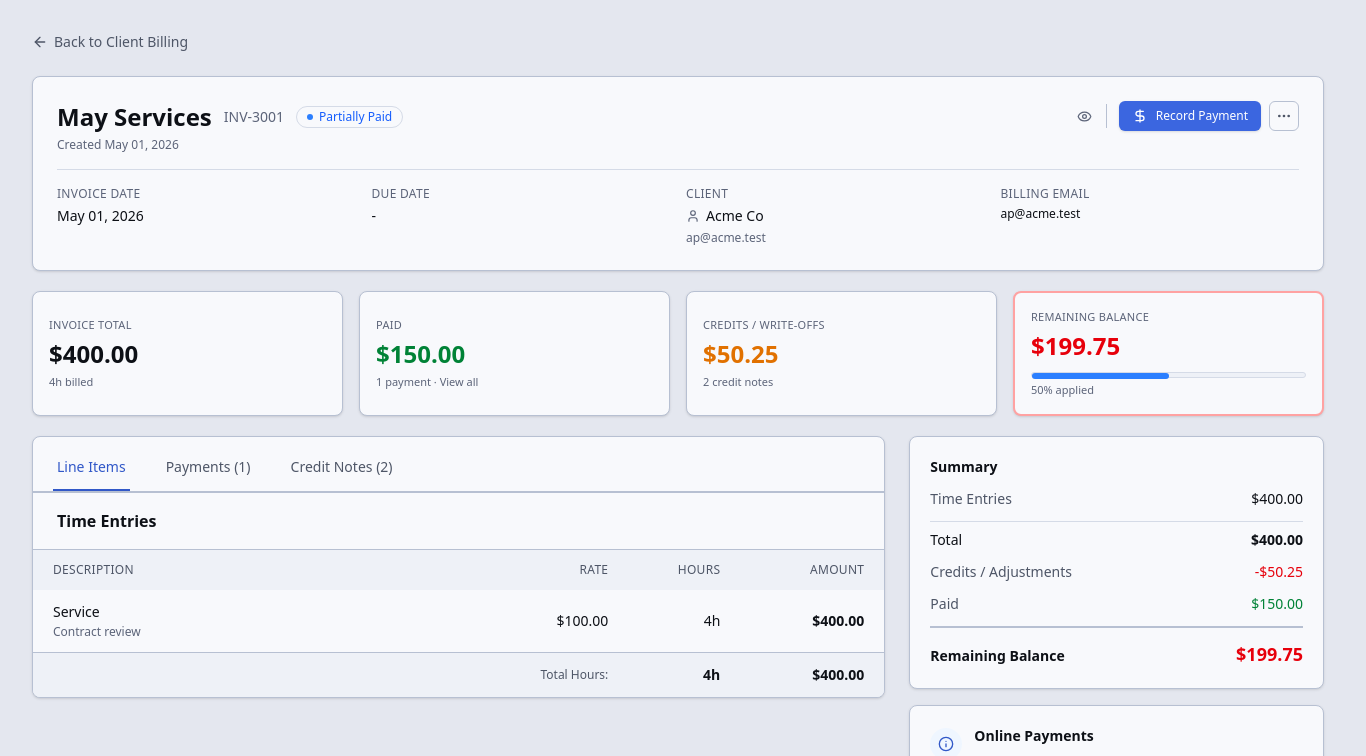
Test: credit notes already on the invoice › offers no removal to someone who cannot manage invoices
Click the button "Credit Notes (2)" at (342, 468), box [287, 445, 397, 491]
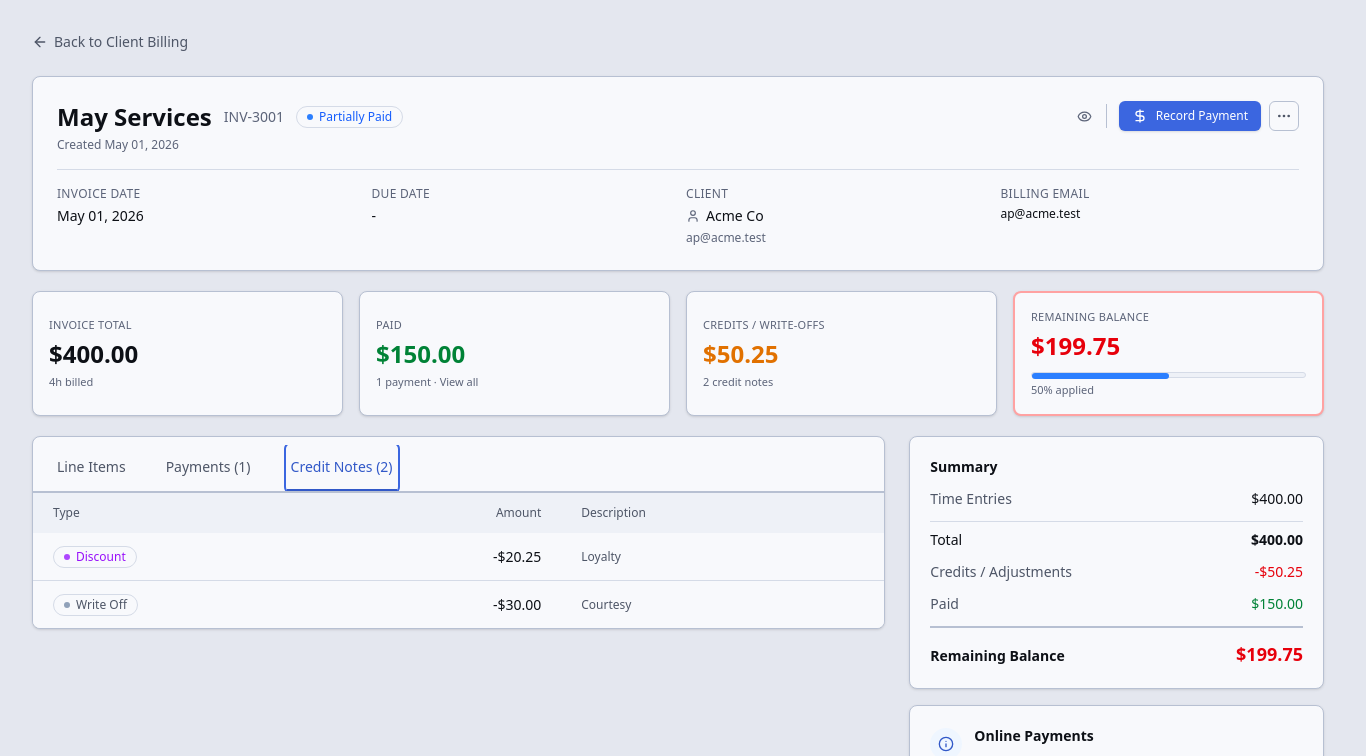
Check: the text "-$30.00" is shown, box [342, 580, 561, 628]
